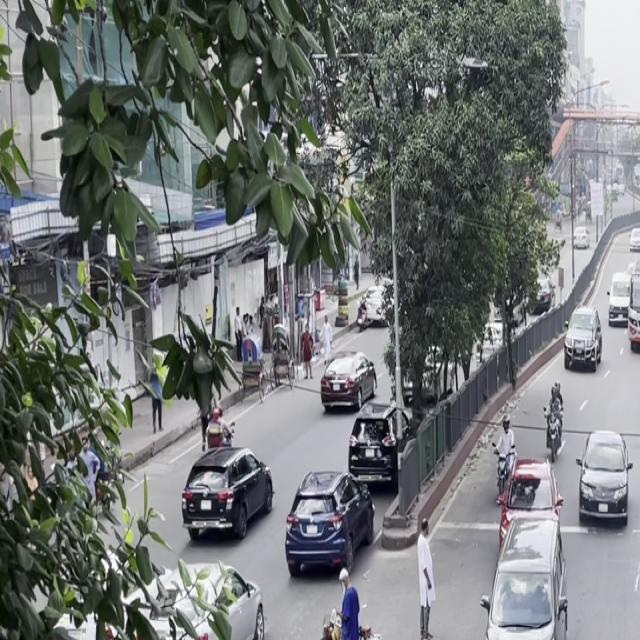bicycle: (302, 574, 398, 640)
bus: (626, 252, 640, 359)
car: (478, 512, 572, 640), (278, 460, 377, 581), (176, 443, 279, 546), (575, 422, 637, 536), (344, 392, 415, 488), (315, 343, 380, 418), (561, 304, 603, 376), (605, 273, 633, 331)
motorbike: (491, 418, 521, 508), (543, 384, 566, 464)
